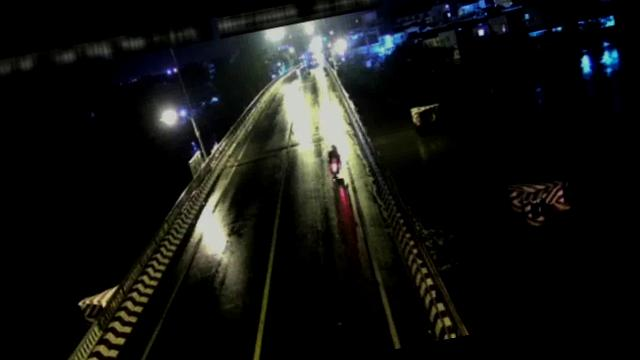Bike: (321, 142, 348, 180)
